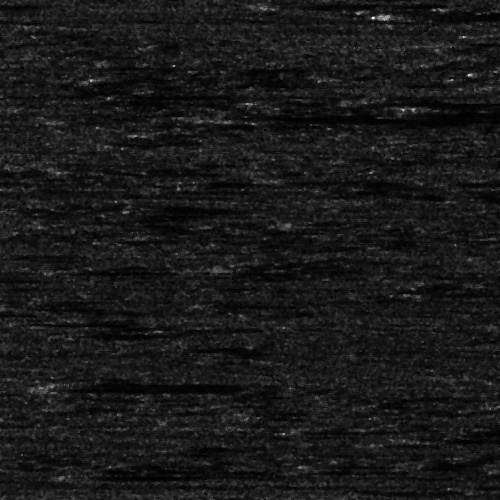object: (222, 0, 315, 11), (195, 110, 288, 121), (37, 378, 110, 391), (368, 12, 431, 17), (48, 471, 111, 476), (475, 82, 500, 87)
shadow: (242, 110, 483, 121), (269, 0, 500, 11), (74, 378, 261, 391), (80, 471, 245, 476), (400, 12, 500, 17), (0, 276, 29, 277)
